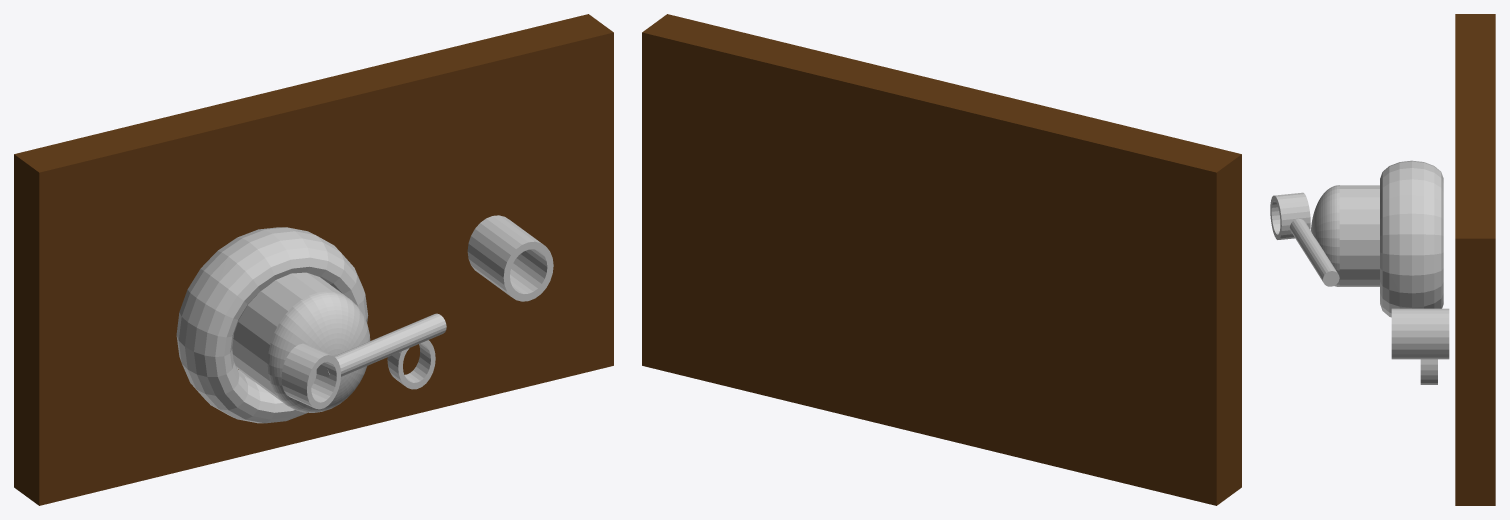
Rendered from TeaSet.obj.
3 views of the same model, side by side, from view 1: azimuth 30°, elevation 25°; view 2: azimuth 150°, elevation 25°; view 3: azimuth 270°, elevation 25° (orthographic). The views are drawn at different scales.
Parts seen in each view (by area): view 1: group_0_6306067, group_0_14860437, group_0_11107152, group_0_16089887; view 2: group_0_6306067; view 3: group_0_6306067, group_0_14860437, group_0_11107152, group_0_16089887.
Boxes of the visible parts, bbox=[...] form: group_0_6306067: bbox=[14, 14, 613, 505]; group_0_14860437: bbox=[232, 215, 553, 412]; group_0_11107152: bbox=[176, 227, 368, 423]; group_0_16089887: bbox=[281, 313, 446, 409]; group_0_6306067: bbox=[642, 14, 1241, 505]; group_0_6306067: bbox=[1455, 14, 1495, 505]; group_0_14860437: bbox=[1311, 185, 1449, 384]; group_0_11107152: bbox=[1380, 160, 1443, 317]; group_0_16089887: bbox=[1270, 192, 1339, 286].
Bounding box in the file's own units: 92 × 51 × 39.
